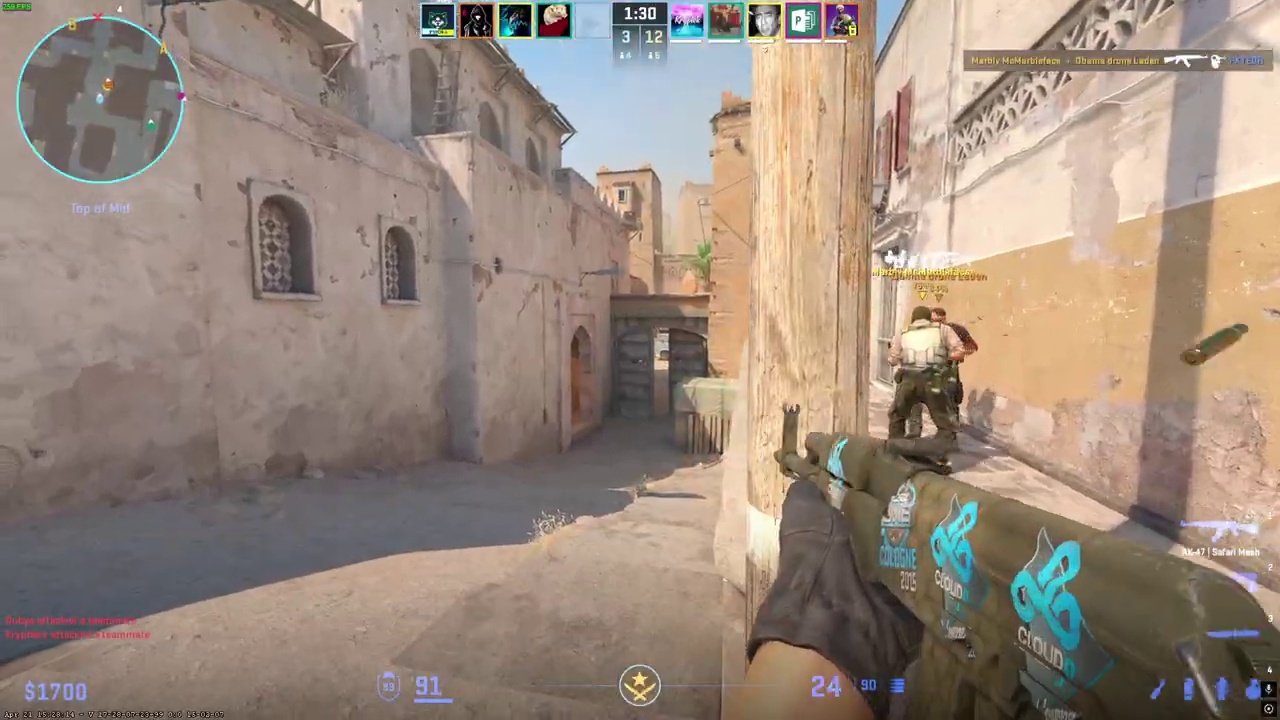Terrorist: (883, 304, 975, 448)
